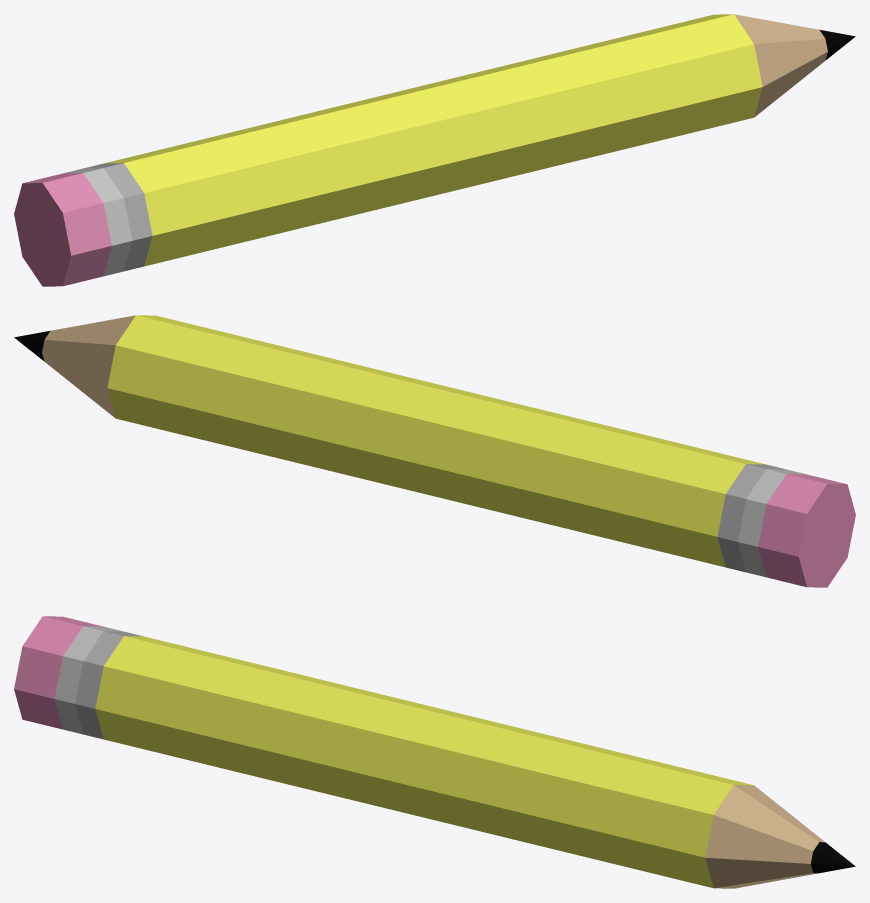
File: Pencil.obj
3 renders of one model, top to bottom at view 1: azimuth 30°, elevation 25°; view 2: azimuth 150°, elevation 25°; view 3: azimuth 330°, elevation 25°, orthographic.
Visible parts, largest first — view 1: Cylinder; view 2: Cylinder; view 3: Cylinder.
Part boxes in pixels (box(x1,y1,x2,y2)): Cylinder: box(14, 14, 855, 286); Cylinder: box(14, 315, 855, 587); Cylinder: box(14, 616, 855, 888).
Size of the model in its own units: 0.2 by 0.0244 by 0.0244.
Materials: 1 (1 with a texture image).
